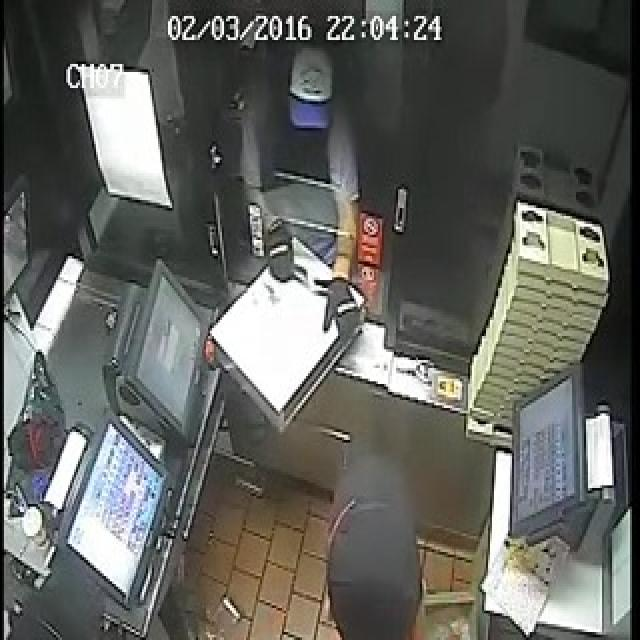thief: (261, 67, 378, 276)
